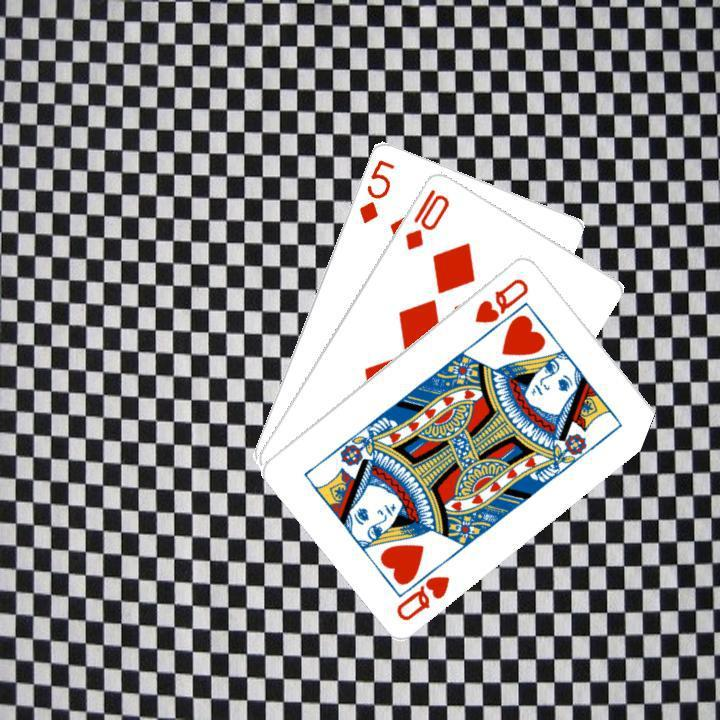10: (400, 184, 452, 252)
5: (354, 154, 397, 225)
Q: (391, 554, 452, 623), (470, 273, 531, 325)
